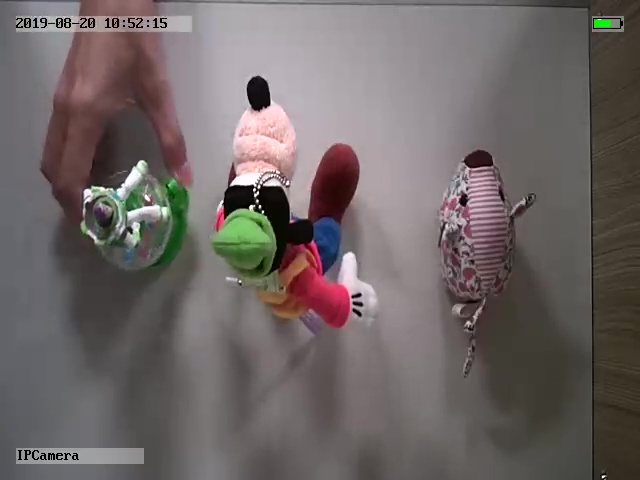buzz: (79, 156, 190, 273)
goofy: (212, 74, 379, 336)
pig: (435, 149, 535, 377)
